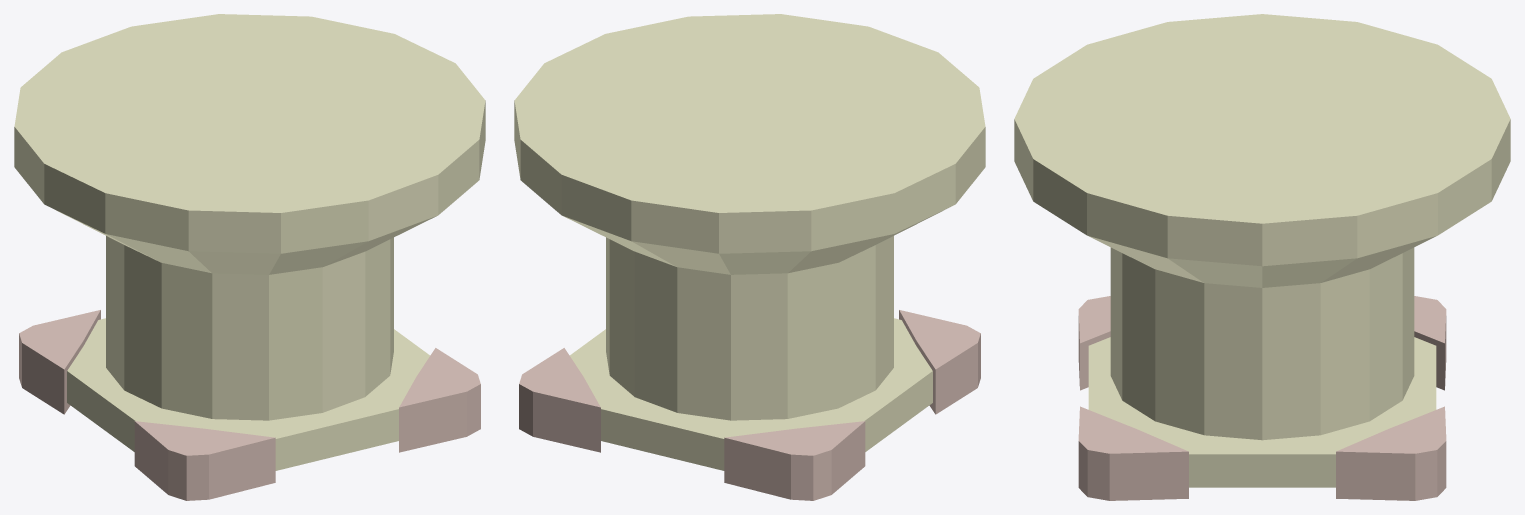
The model's file is pilar1.fbx.
3 renders of one model, left to right at view 1: azimuth 30°, elevation 25°; view 2: azimuth 150°, elevation 25°; view 3: azimuth 270°, elevation 25°, orthographic. The views are drawn at different scales.
Visible parts, largest first — view 1: Cylinder.001; view 2: Cylinder.001; view 3: Cylinder.001.
Part boxes in pixels (x1,y1,x2,y2): Cylinder.001: (14, 14, 485, 500); Cylinder.001: (514, 14, 985, 500); Cylinder.001: (1014, 14, 1510, 500).
Bounding box in the file's own units: 278 × 187 × 278.
